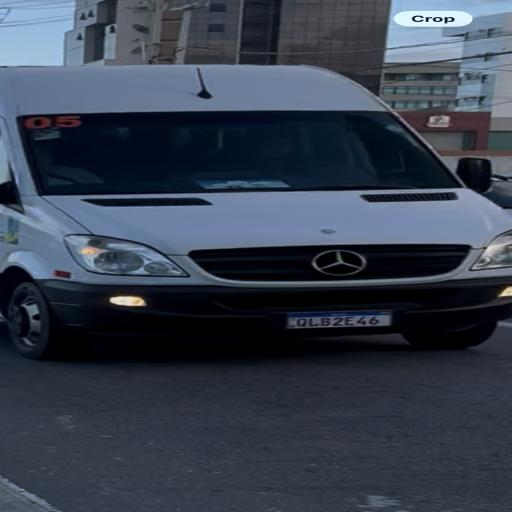detec-o-placas: (254, 273, 451, 362)
